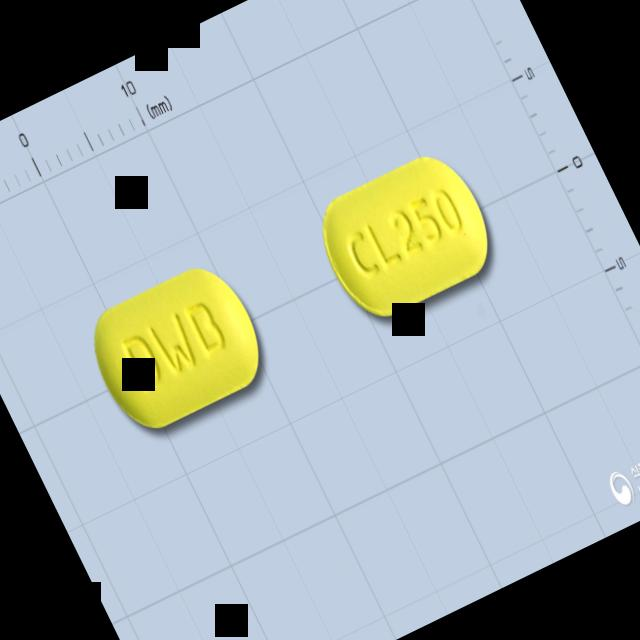Daewoong Clarithromycin: (305, 140, 506, 330), (76, 253, 278, 442)
